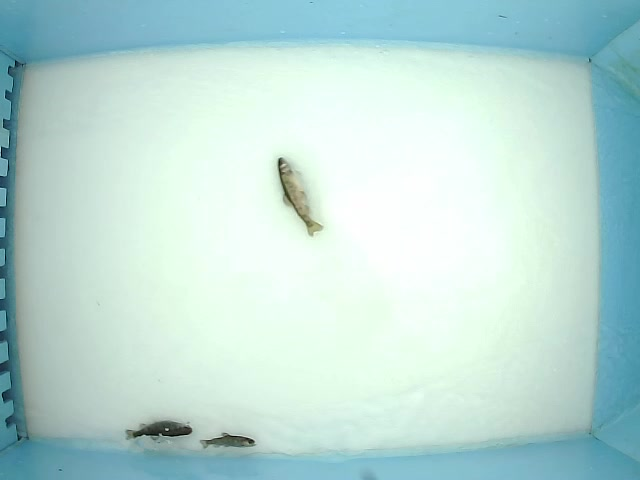fish: (275, 155, 326, 238), (123, 419, 193, 441), (199, 432, 257, 449)
